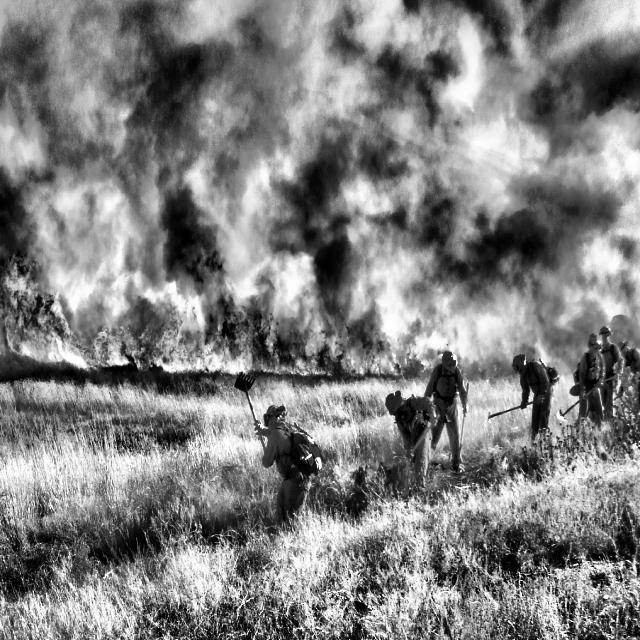fire: (0, 242, 549, 416)
